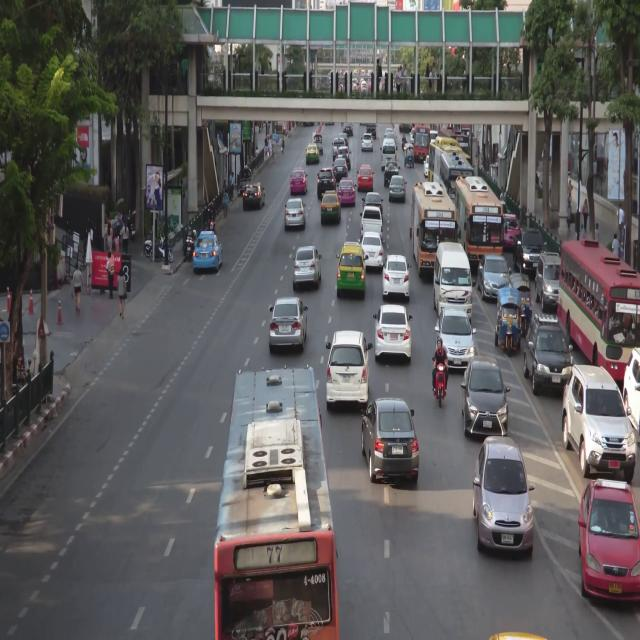bus: (218, 368, 338, 640), (559, 239, 640, 380), (453, 174, 502, 275), (412, 182, 456, 282), (440, 154, 474, 224), (429, 139, 462, 204), (440, 128, 470, 179), (415, 124, 430, 160)
car: (565, 367, 637, 481), (473, 434, 534, 559), (361, 401, 420, 483), (525, 316, 572, 396), (462, 358, 508, 436), (327, 331, 370, 405), (435, 246, 472, 323), (375, 306, 412, 363), (438, 312, 475, 368), (270, 298, 307, 348), (536, 250, 562, 311), (476, 253, 510, 298), (497, 289, 522, 350), (624, 346, 640, 436), (383, 253, 410, 302), (515, 227, 543, 274), (294, 248, 323, 291), (508, 277, 529, 330), (361, 234, 384, 268), (361, 209, 383, 243), (285, 197, 306, 228), (363, 190, 383, 219), (318, 168, 338, 196), (243, 183, 265, 207), (382, 136, 396, 168), (389, 175, 406, 200), (334, 157, 348, 179), (338, 143, 350, 168), (385, 161, 398, 184), (404, 142, 415, 167), (333, 137, 344, 159), (362, 134, 373, 153), (366, 124, 377, 137), (343, 124, 352, 137), (341, 132, 348, 148), (385, 128, 392, 138)
pedestrian: (72, 264, 83, 314), (105, 252, 116, 301), (117, 268, 127, 320), (121, 219, 129, 254), (222, 187, 229, 219), (583, 196, 589, 231), (617, 202, 623, 235), (612, 232, 619, 256), (107, 221, 112, 254), (567, 199, 572, 231), (114, 231, 120, 253), (230, 171, 235, 197), (267, 132, 272, 156), (595, 218, 600, 242), (264, 135, 268, 157), (568, 179, 572, 201), (281, 136, 285, 154), (273, 145, 276, 163), (223, 178, 227, 190), (255, 147, 258, 159)
taxi: (579, 480, 640, 603), (338, 244, 366, 296), (194, 229, 223, 269), (499, 213, 522, 248), (322, 191, 340, 223), (339, 177, 355, 204), (358, 164, 373, 192), (291, 169, 307, 193), (306, 144, 320, 164)
